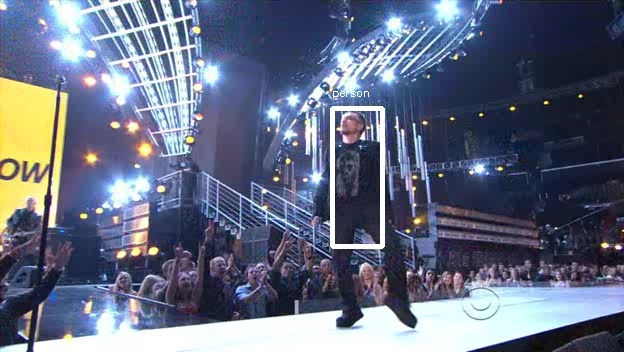person: (318, 111, 388, 235), (315, 111, 385, 235), (321, 111, 391, 235), (318, 108, 388, 232), (318, 114, 388, 238)
target_negative: (202, 19, 500, 178), (271, 203, 452, 308), (110, 188, 587, 220), (408, 288, 555, 335), (251, 240, 434, 268), (414, 334, 624, 342)
